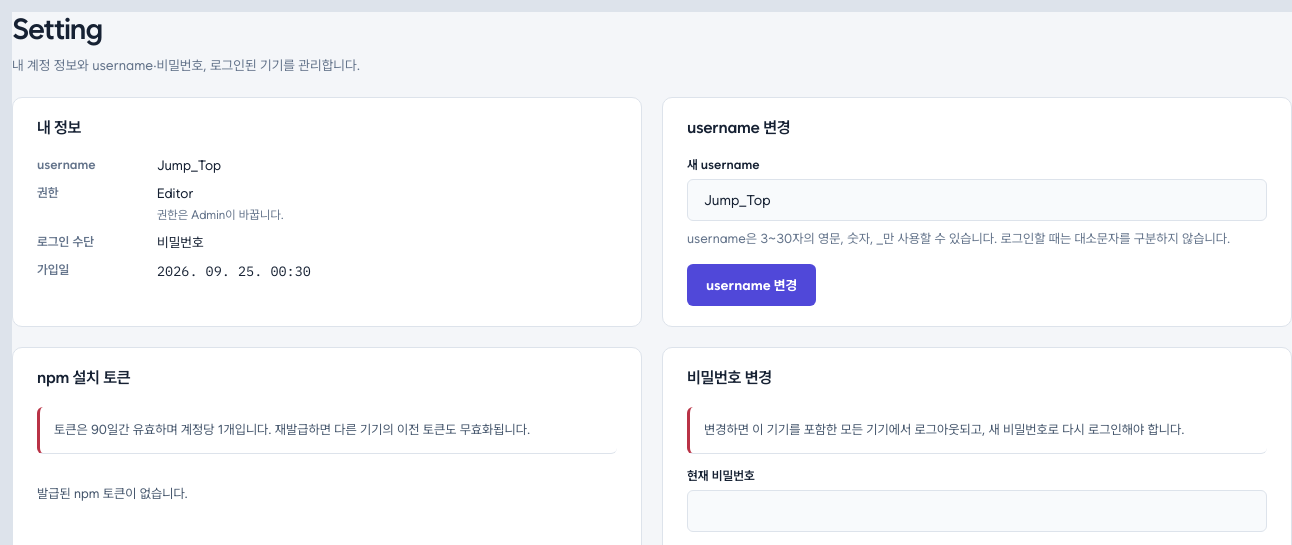
Scenario: username › tells when the username is taken
Replace the text in the field labelled "새 username" with "Taken_1" at (977, 200), box [687,179,1267,221]
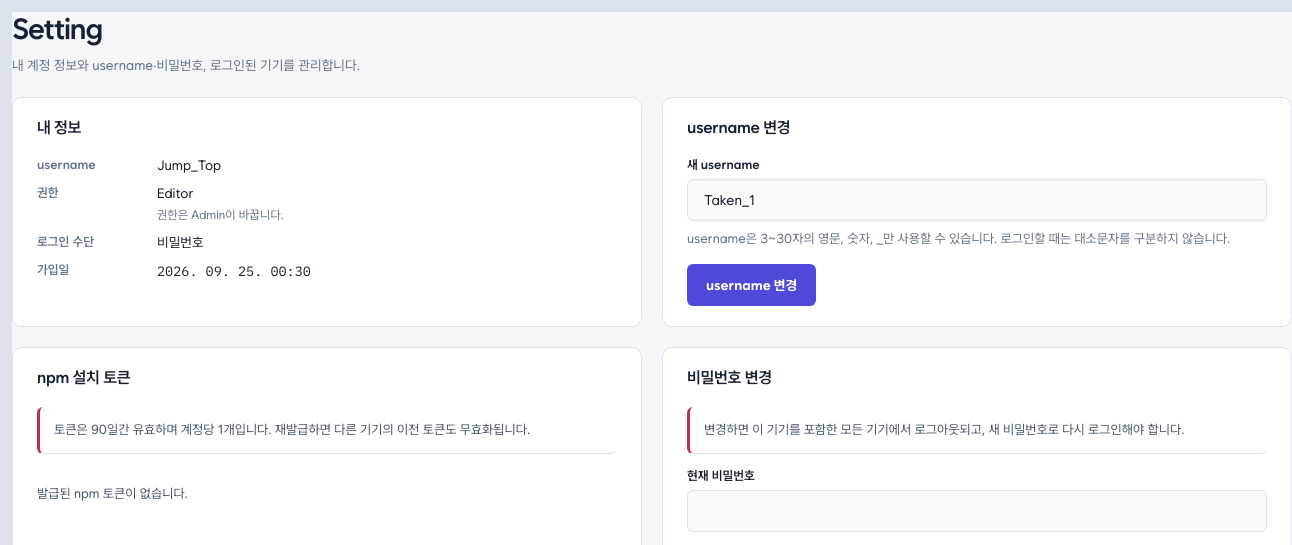
Click the button "username 변경" at (752, 285), box [687,264,816,306]
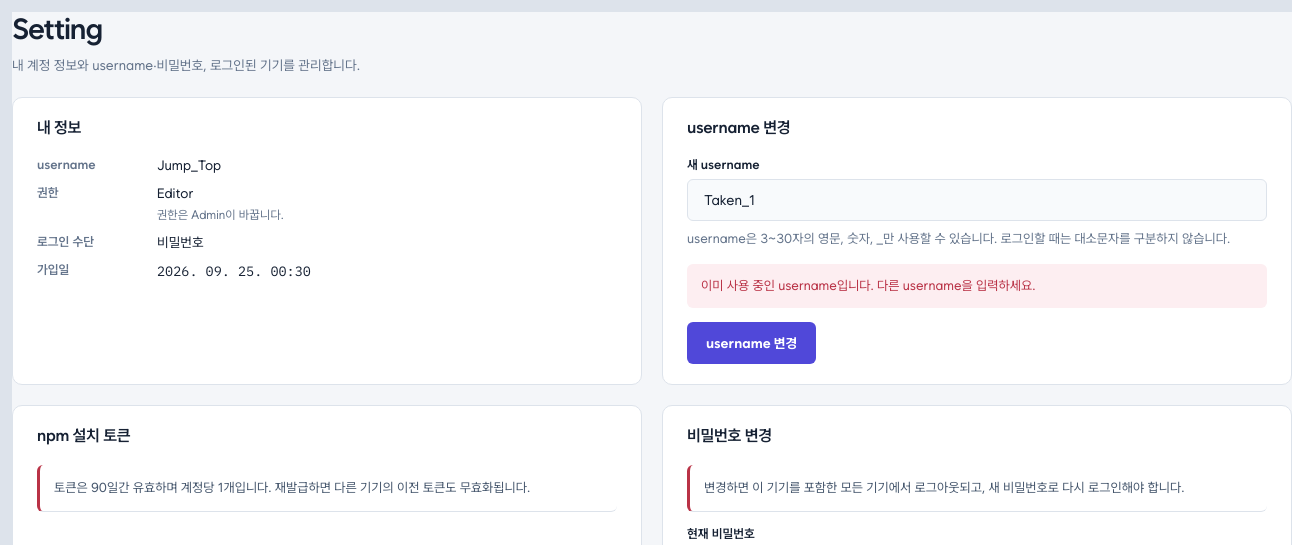
Expected: the button "username 변경" is enabled, [687,322,816,364]
Expected: the message shows "이미 사용 중인 username입니다.", [701,278,1036,293]
